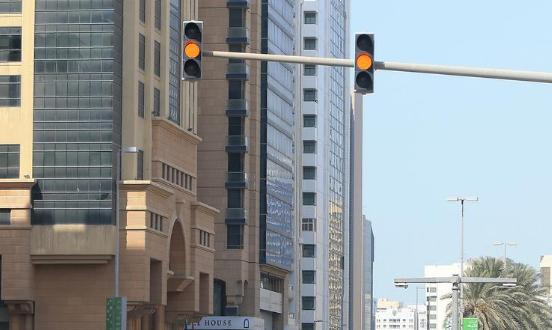yellow_light: (182, 21, 203, 80), (354, 34, 374, 93)
